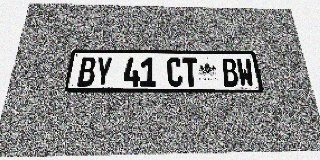1: (140, 57, 156, 86)
4: (123, 57, 140, 86)
B: (77, 57, 97, 86), (221, 58, 239, 87)
C: (167, 58, 183, 86)
T: (182, 58, 199, 86)
W: (236, 58, 255, 87)
Y: (94, 57, 113, 86)
